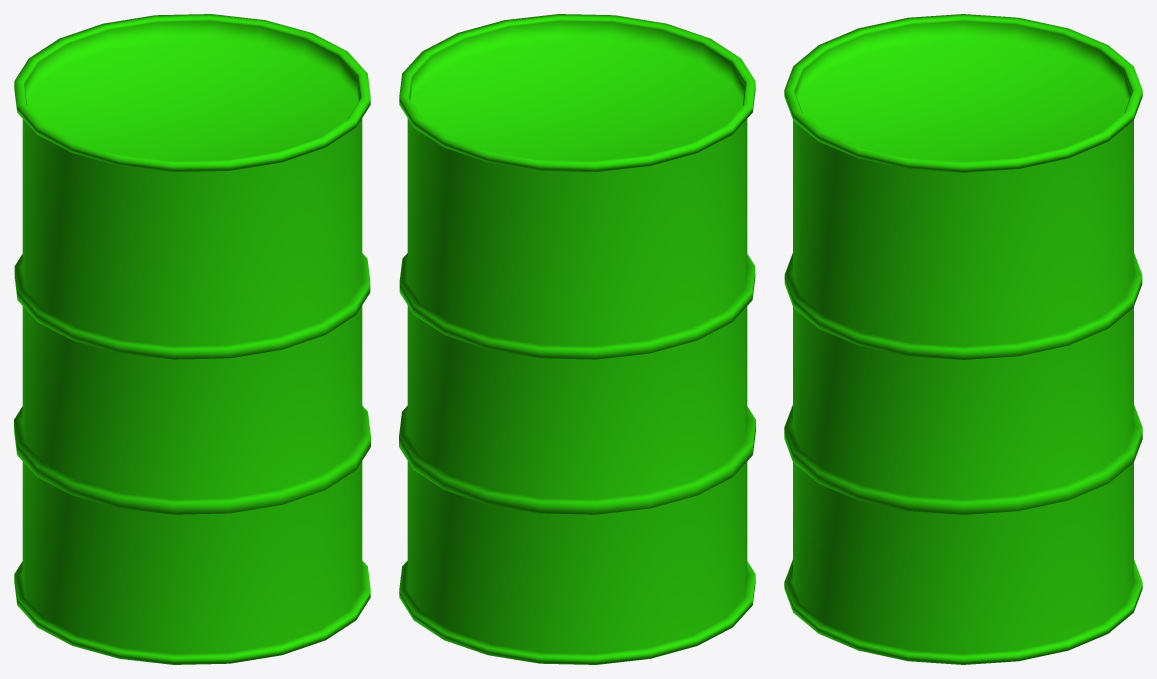
The model's file is Oil_Tank_03_Lod0.fbx.
3 views of the same model, side by side, from view 1: azimuth 30°, elevation 25°; view 2: azimuth 150°, elevation 25°; view 3: azimuth 270°, elevation 25° (orthographic).
Parts seen in each view (by area): view 1: Oil_Tank_03_Lod0; view 2: Oil_Tank_03_Lod0; view 3: Oil_Tank_03_Lod0.
Boxes of the visible parts, x1,y1,x2,y2 form: Oil_Tank_03_Lod0: [14, 14, 370, 664]; Oil_Tank_03_Lod0: [399, 14, 755, 664]; Oil_Tank_03_Lod0: [784, 14, 1142, 664].
Bounding box in the file's own units: 63.76 × 98.15 × 63.76.
